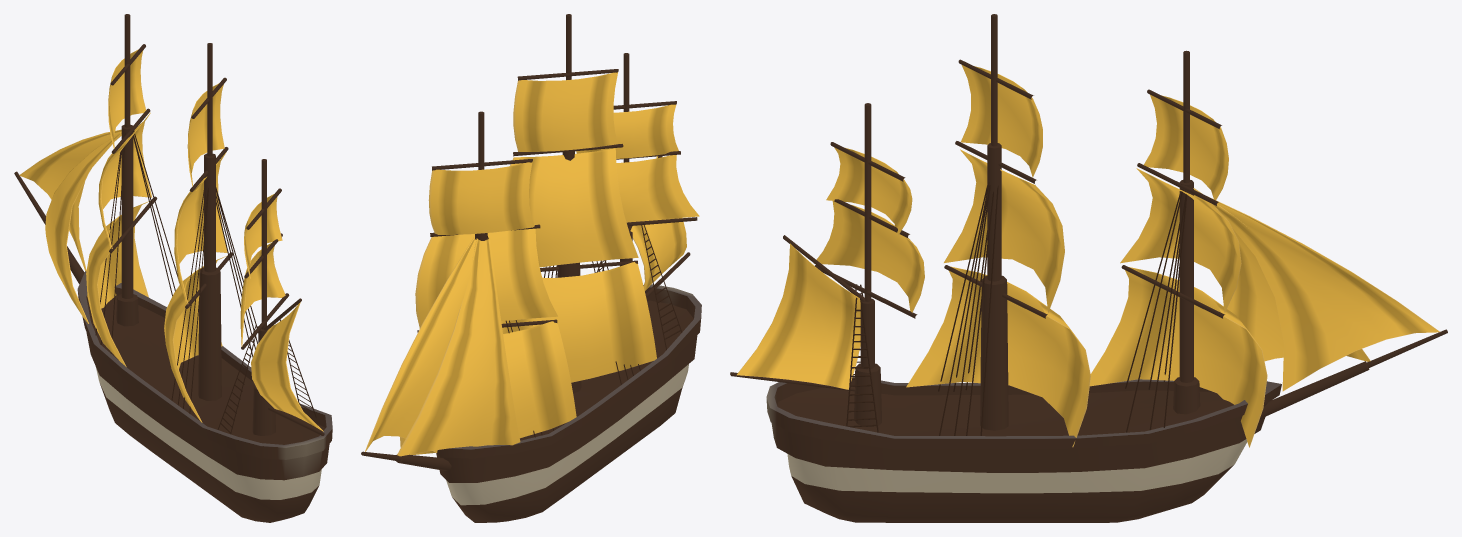
The model's file is ship bb.gltf.
The picture shows the model from 3 angles, left to right: view 1: azimuth 30°, elevation 25°; view 2: azimuth 150°, elevation 25°; view 3: azimuth 270°, elevation 25°; orthographic projection. The views are drawn at different scales.
Parts seen in each view (by area): view 1: Player_grade03; view 2: Player_grade03; view 3: Player_grade03.
Boxes of the visible parts, x1,y1,x2,y2 form: Player_grade03: [14, 14, 332, 522]; Player_grade03: [361, 14, 701, 522]; Player_grade03: [730, 14, 1447, 522].
Size of the model in its own units: 0.6951 by 2.69 by 3.54.
Materials: 1 (1 with a texture image).
